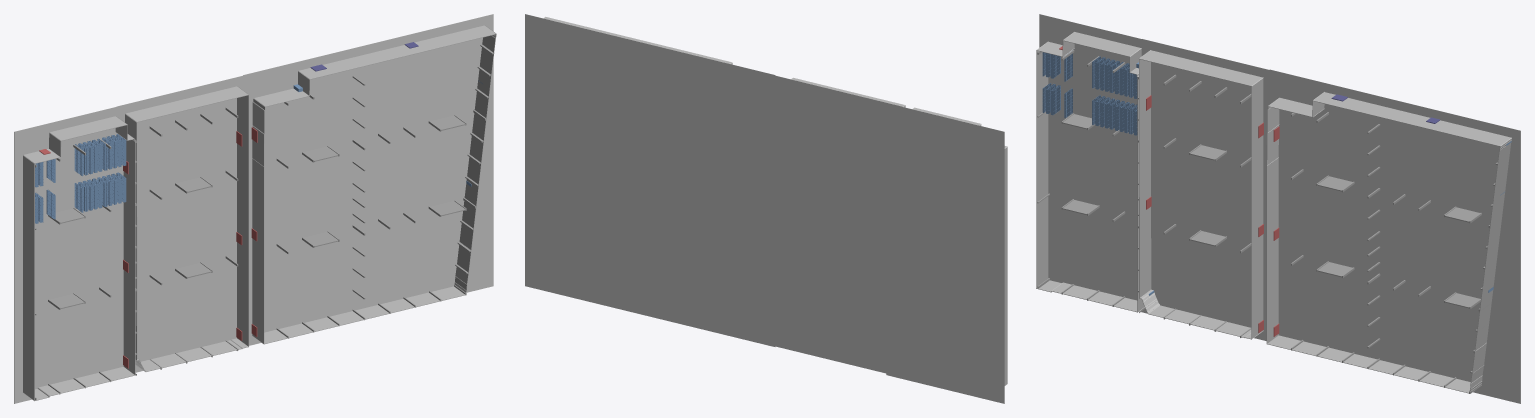
The model's file is design.gltf.
The picture shows the model from 3 angles, left to right: view 1: azimuth 30°, elevation 25°; view 2: azimuth 150°, elevation 25°; view 3: azimuth 330°, elevation 25°; orthographic projection.
Bounding box in the file's own units: 215388 × 117111 × 9100.
